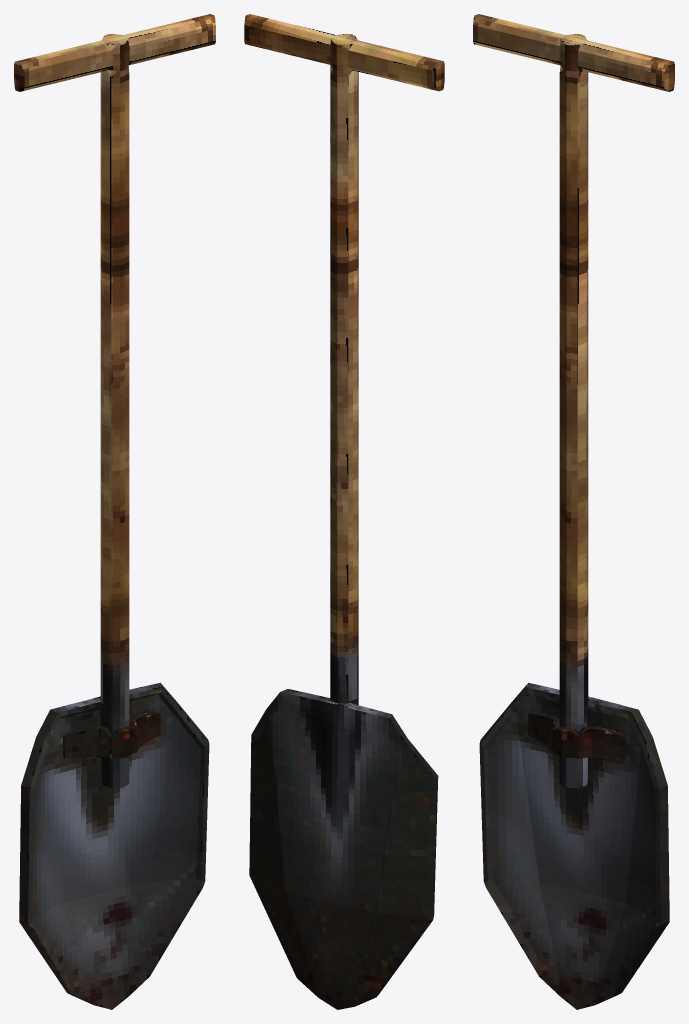
The model's file is shovel.glb.
3 views of the same model, side by side, from view 1: azimuth 30°, elevation 25°; view 2: azimuth 150°, elevation 25°; view 3: azimuth 330°, elevation 25° (orthographic).
Visible parts, largest first — view 1: shovel; view 2: shovel; view 3: shovel.
Part boxes in pixels (x1=…): shovel: x1=14, y1=14, x2=215, y2=1009; shovel: x1=244, y1=14, x2=444, y2=1009; shovel: x1=473, y1=14, x2=674, y2=1009.
Bounding box in the file's own units: 0.2929 × 1.37 × 0.0656.
1 material, 1 textured.
